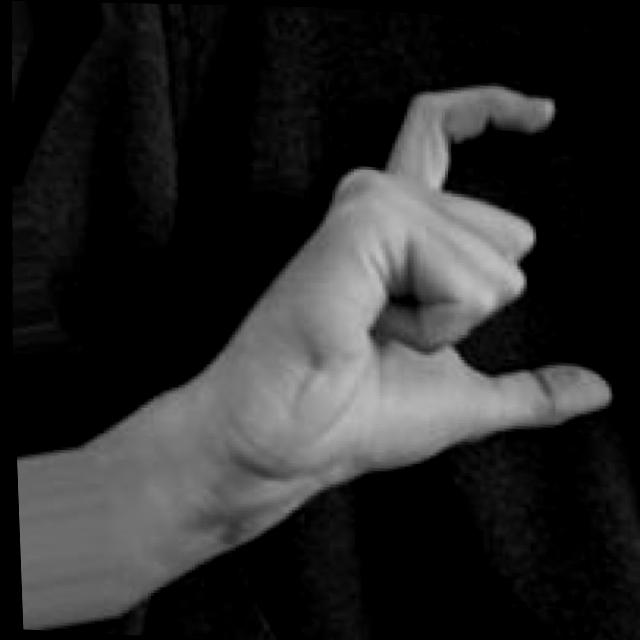C: (179, 56, 632, 546)
